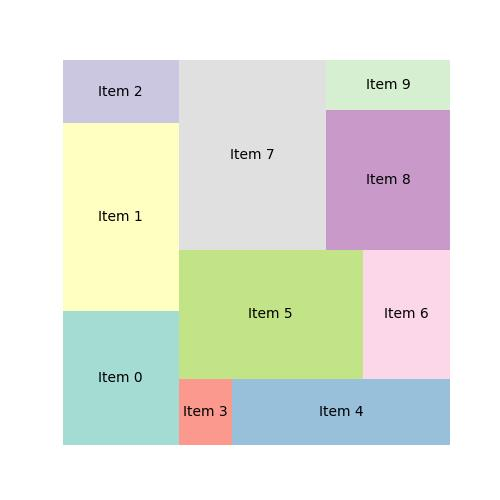rectangle: (179, 58, 326, 249), (179, 251, 361, 378), (63, 121, 179, 311), (326, 110, 451, 250), (63, 311, 179, 445), (232, 379, 450, 444), (361, 249, 451, 379), (61, 58, 179, 121), (327, 61, 450, 109), (179, 378, 231, 446)
